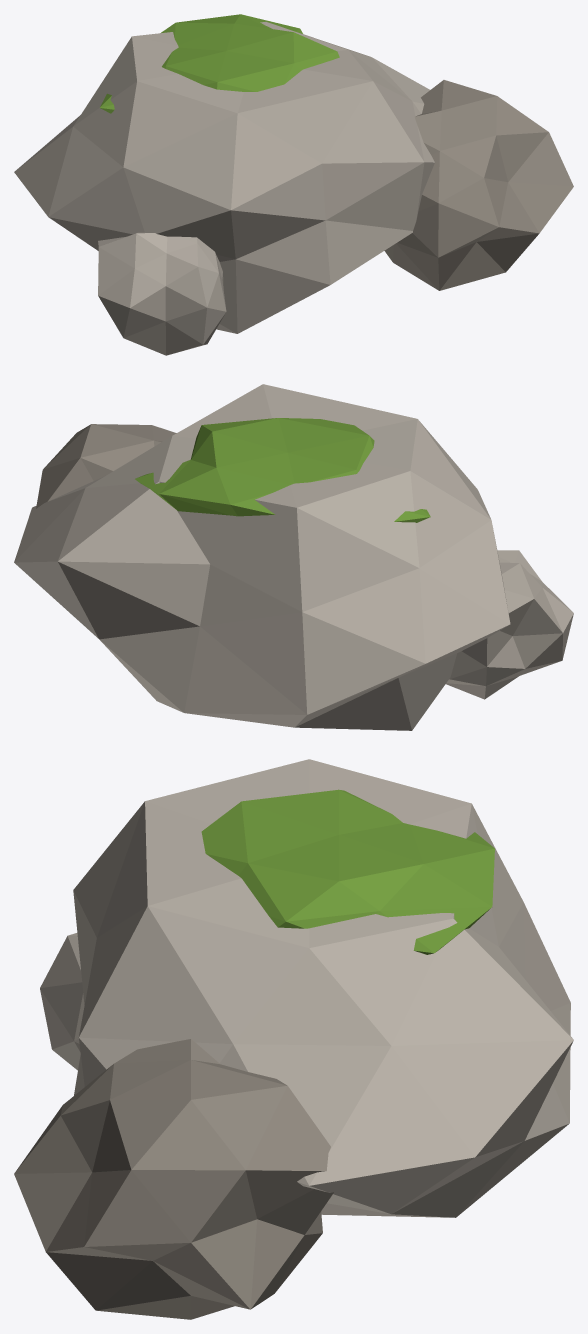
File: roca.glb
The picture shows the model from 3 angles, top to bottom: view 1: azimuth 30°, elevation 25°; view 2: azimuth 150°, elevation 25°; view 3: azimuth 270°, elevation 25°; orthographic projection. The views are drawn at different scales.
Visible parts, largest first — view 1: roca_piedra, roca_piedra_osc, roca_musgo; view 2: roca_piedra, roca_musgo, roca_piedra_osc; view 3: roca_piedra, roca_piedra_osc, roca_musgo.
Part boxes in pixels (x1,y1,x2,y2): roca_piedra: (14,22,434,355); roca_piedra_osc: (384,80,573,290); roca_musgo: (100,14,339,113); roca_piedra: (14,384,573,730); roca_musgo: (135,418,430,522); roca_piedra_osc: (36,424,176,508); roca_piedra: (40,759,573,1217); roca_piedra_osc: (14,1039,333,1319); roca_musgo: (201,789,494,954).
Size of the model in its own units: 2.71 by 1.38 by 1.89.
